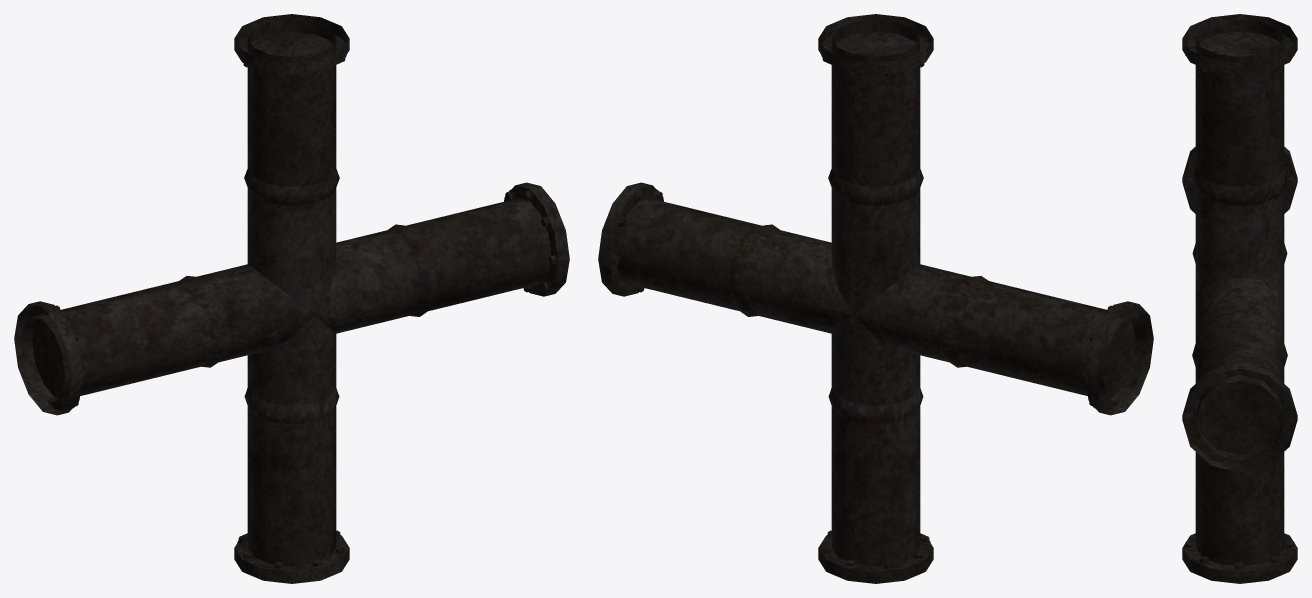
Rendered from pipe_1_cross.obj.
The picture shows the model from 3 angles, left to right: view 1: azimuth 30°, elevation 25°; view 2: azimuth 150°, elevation 25°; view 3: azimuth 270°, elevation 25°; orthographic projection.
Visible parts, largest first — view 1: pipe_1_cross; view 2: pipe_1_cross; view 3: pipe_1_cross.
Boxes of the visible parts, <box> form: pipe_1_cross: <box>14,14,569,583</box>; pipe_1_cross: <box>598,14,1153,583</box>; pipe_1_cross: <box>1182,14,1297,583</box>.
Bounding box in the file's own units: 1.3 × 1.3 × 0.26.
